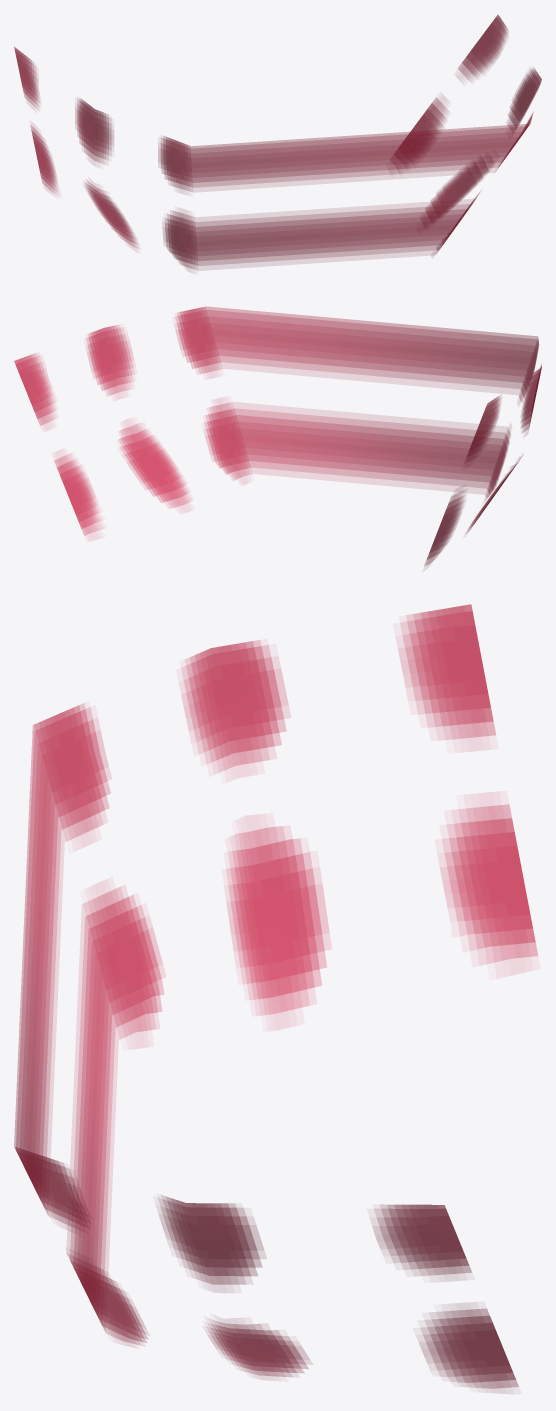
3 renders of one model, top to bottom at view 1: azimuth 30°, elevation 25°; view 2: azimuth 150°, elevation 25°; view 3: azimuth 270°, elevation 25°, orthographic. The views are drawn at different scales.
Parts seen in each view (by area): view 1: ef_416; view 2: ef_416; view 3: ef_416.
Part boxes in pixels (box(x1,y1,x2,y2)): ef_416: box(14, 15, 541, 272); ef_416: box(14, 306, 541, 567); ef_416: box(14, 604, 537, 1393).
Bounding box in the file's own units: 0.7733 × 0.3629 × 0.3849.
Materials: 1 (1 with a texture image).
